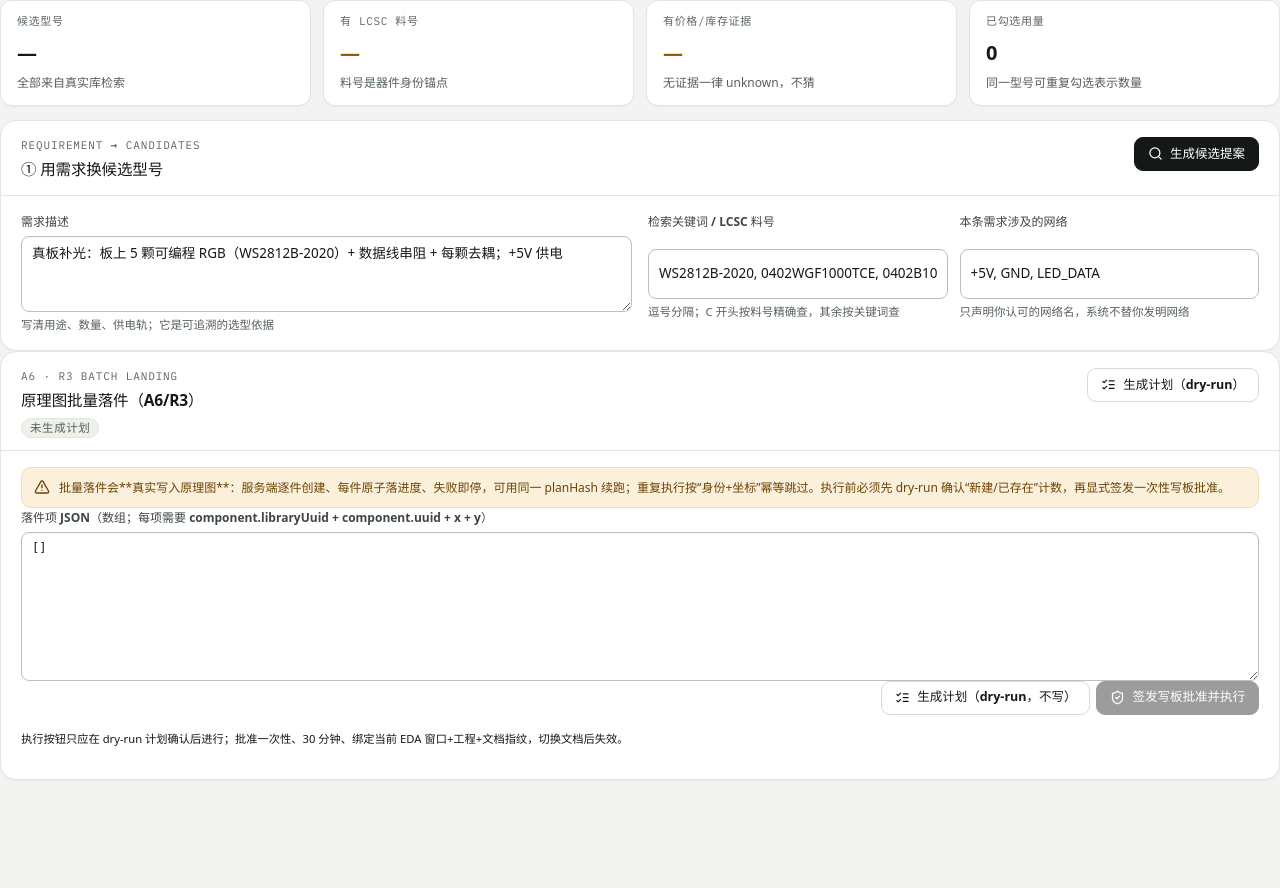
Scenario: F5 页面级交互（真实点击） › PartProposalPage D8：点「生成候选提案」走长任务控制器并渲染候选与取消/重试面板
Click the button "生成候选提案" at point(1196, 154), box [1134,137,1259,171]
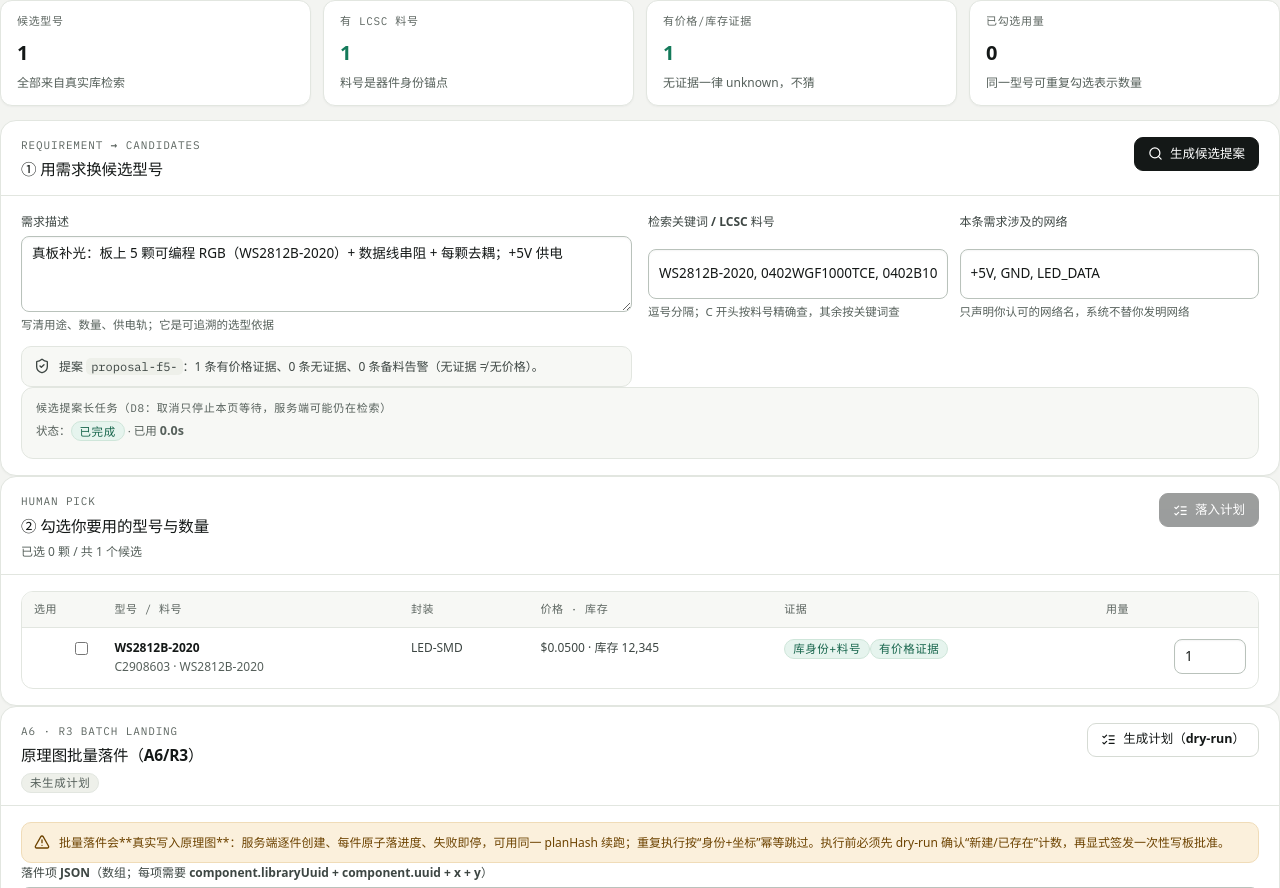
Expected: the text "WS2812B-2020" is shown, [114,639,200,656]
Expected: the text "候选提案长任务" is shown, [36,401,392,415]
Expected: the text "本页等待" is shown, [36,401,392,415]
